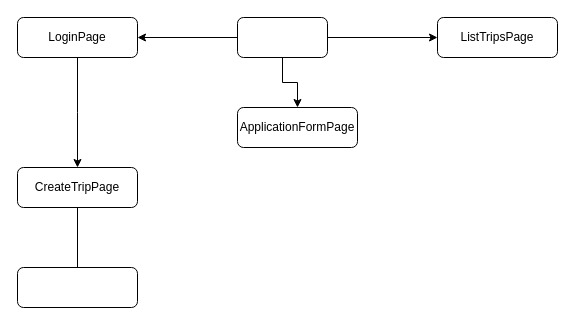
Some shapes in this 575 by 325 pixel diagram are drawn without their labels. Here are the shapes that lost their labels. From the top down, the centre of each, then its label:
pixel 282 37: HomePage
pixel 77 287: TripDetailsPage
